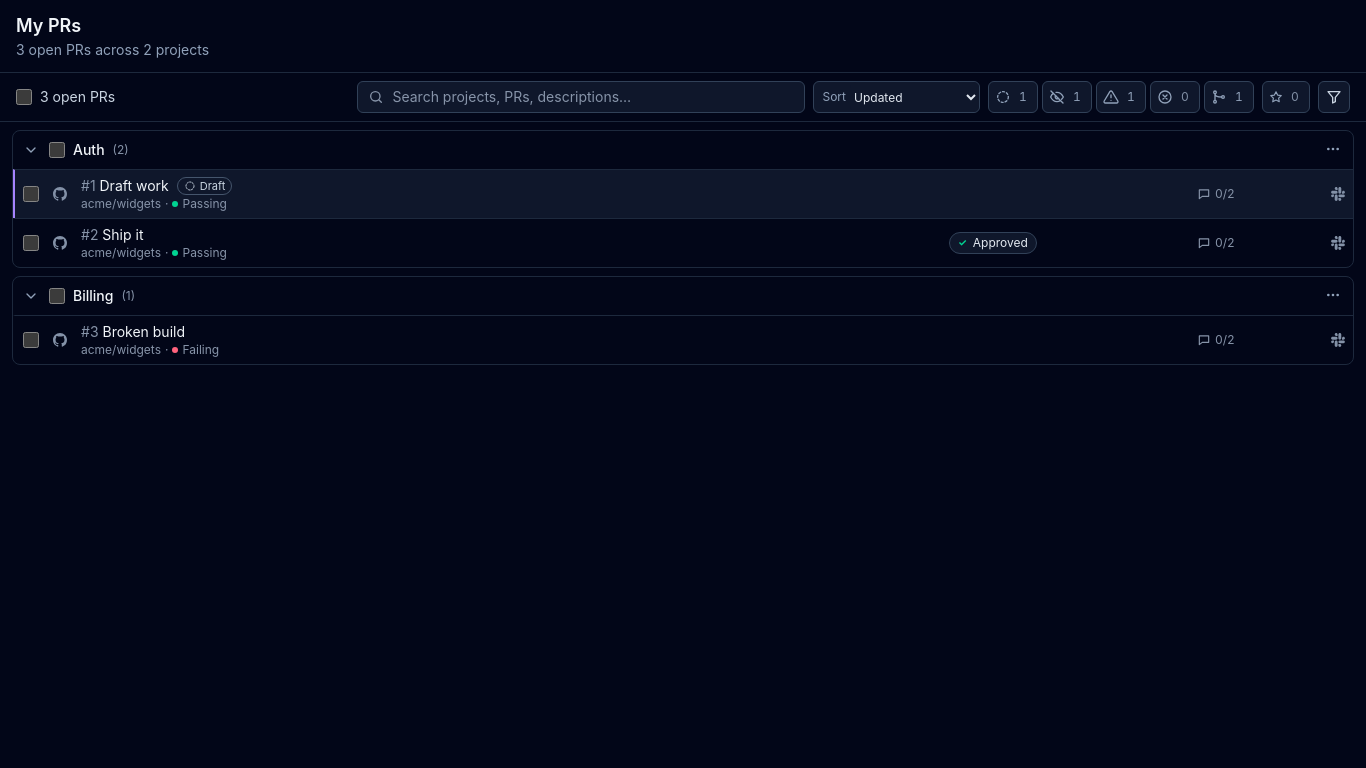
it: quick filters show counts, filter one at a time and clear on a second click
This screenshot has width=1366, height=768.
Expected: the button named "Review declined (0)" is shown, [1150,81,1200,113]
Click the button named "Ready to merge (1)": (1229, 97) [1204,81,1254,113]
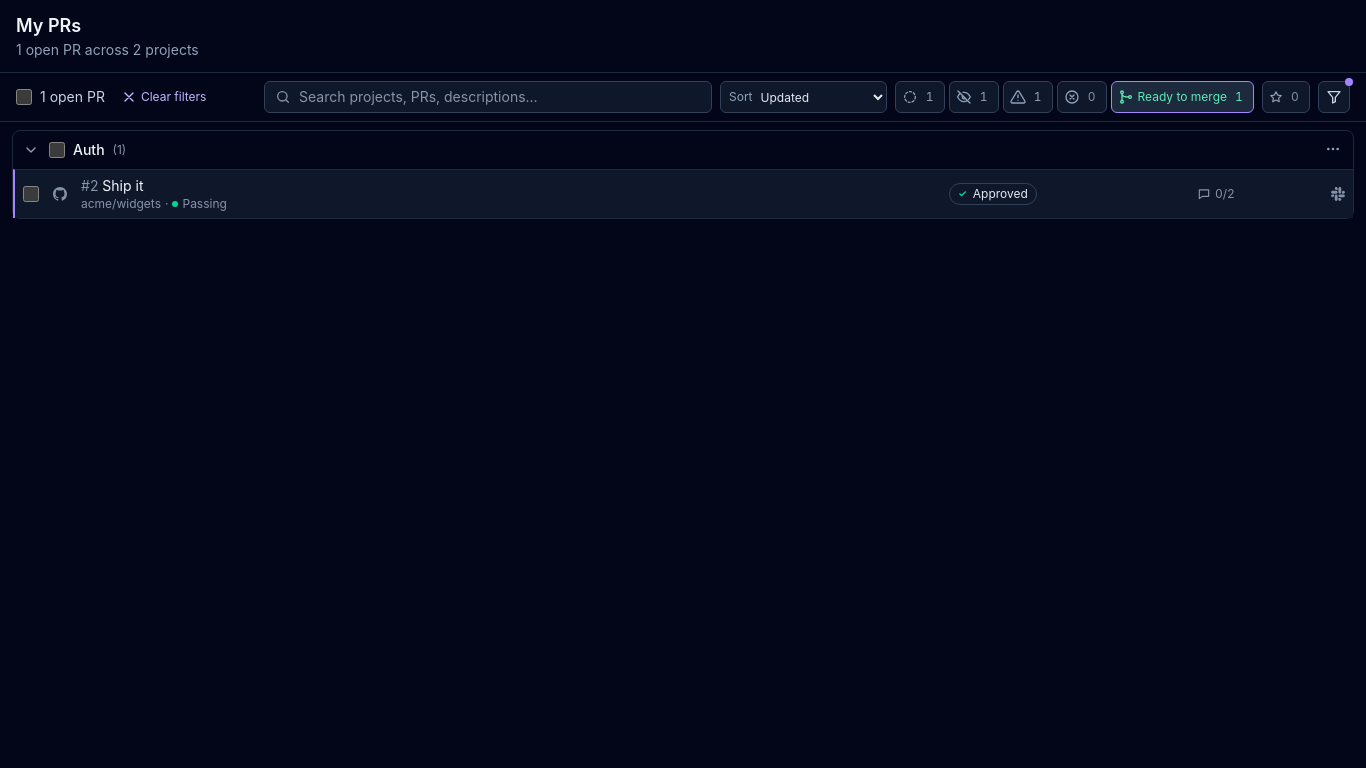
Expected: the checkbox named "Select Ship it" is shown, [23,186,39,202]
Now the button with aria-label "Ready to merge (1)" is pressed, box [1110,81,1254,113]
Click the checkbox named "Select all": (24, 97) [16,89,32,105]
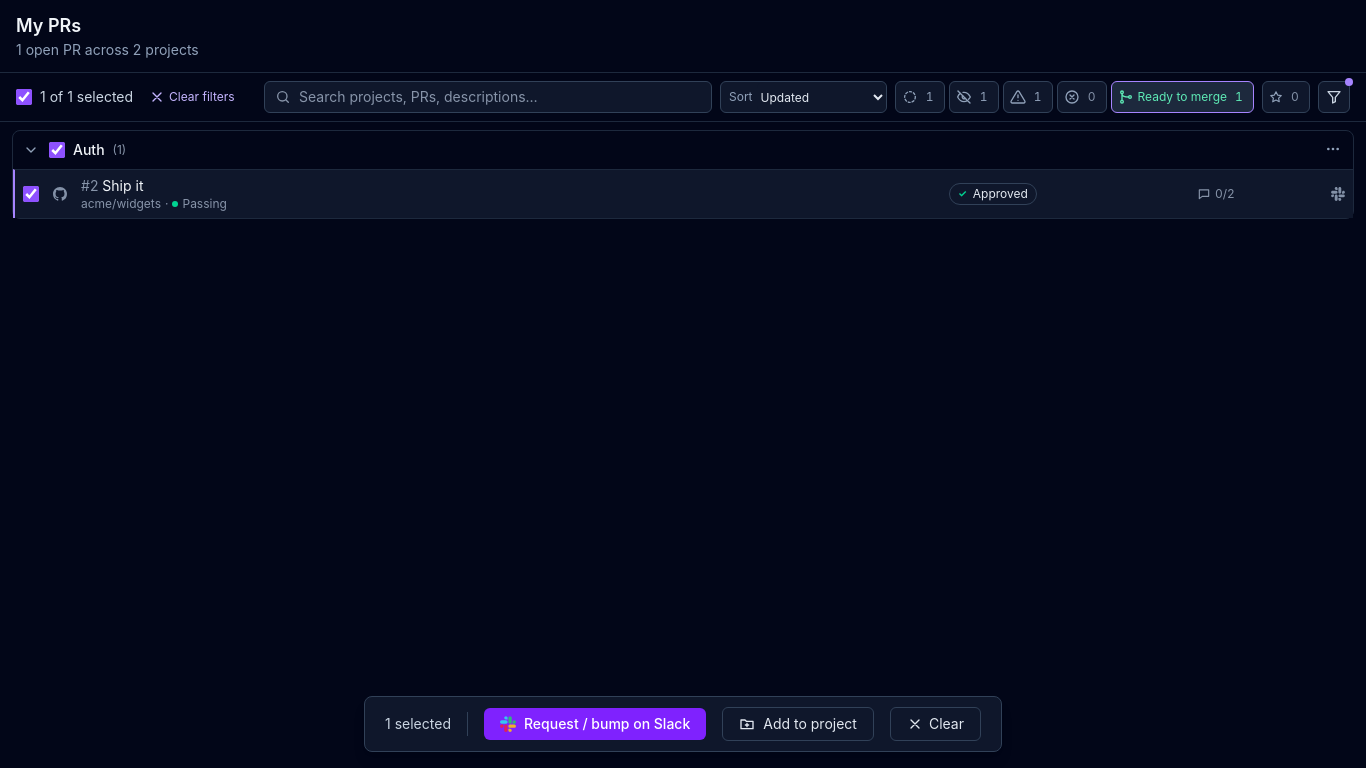
Now the text "1 selected" is shown, box [385,714,451,734]
Click the button named "CI errors or conflicts (1)": (1028, 97) [1002,81,1052,113]
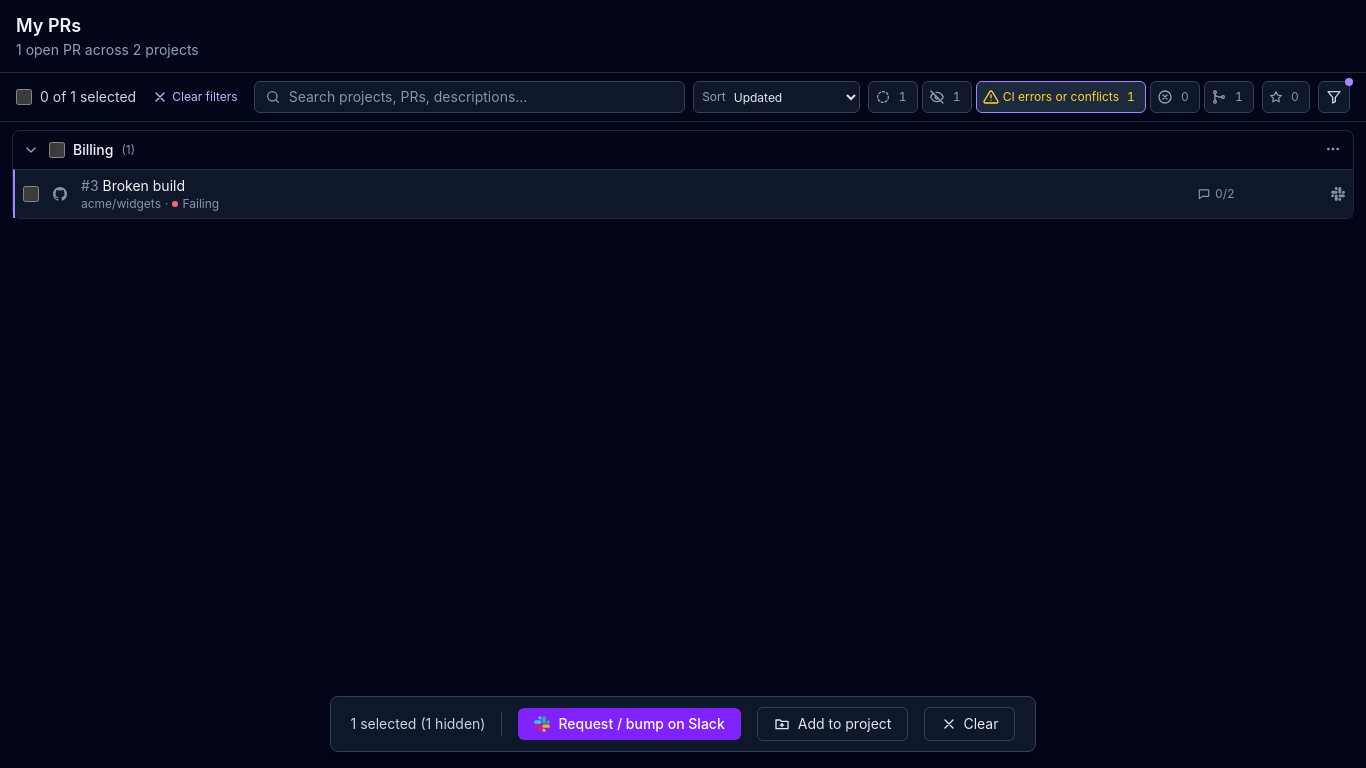
Now the checkbox named "Select Broken build" is shown, box [23,186,39,202]
Click the button with aria-label "CI errors or conflicts (1)": (1061, 97) [976,81,1146,113]
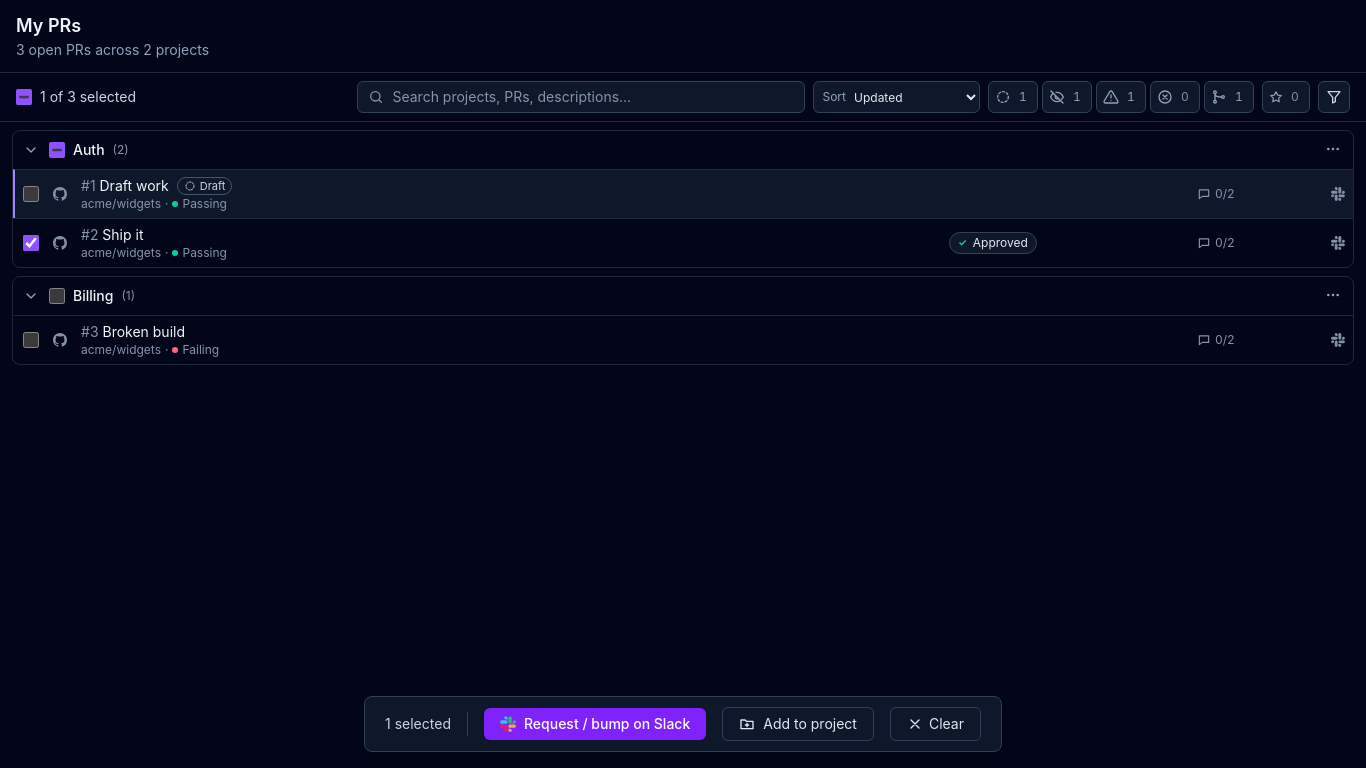
Expected: the checkbox named "Select Draft work" is shown, [23,186,39,202]
Now the checkbox named "Select Ship it" is shown, box [23,235,39,251]
